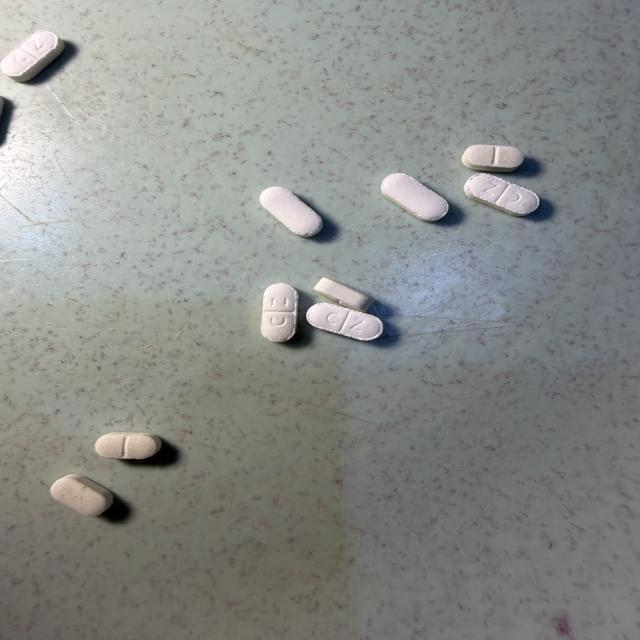pill: (381, 173, 448, 221), (0, 31, 64, 81), (464, 174, 539, 216), (260, 187, 322, 237), (307, 303, 383, 340), (51, 475, 113, 515), (262, 283, 298, 342), (315, 278, 373, 312), (95, 433, 161, 459), (462, 145, 524, 172), (0, 97, 4, 116)
